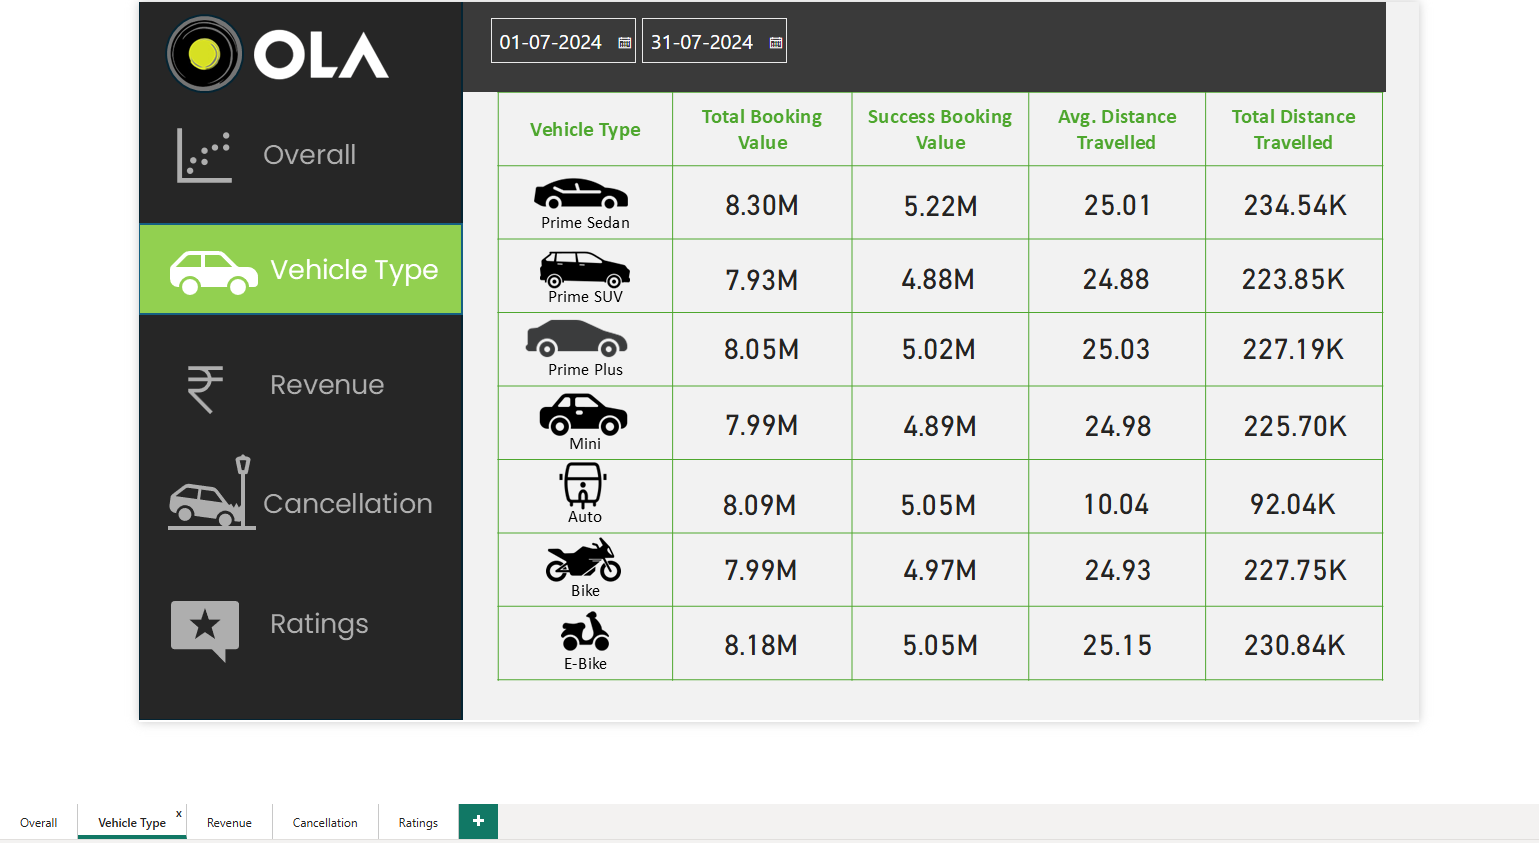

The page's visual inventory and layout, read from the dashboard file:
{"tool":"powerbi","page":{"name":"Vehicle Type","canvas":[1280,720],"ordinal":1},"visuals":[{"type":"actionButton","box":[0,312.5,324.1,119.6],"z":0},{"type":"actionButton","box":[0,116.2,324.1,104.5],"z":1000},{"type":"actionButton","box":[0,432.1,324.1,131.3],"z":2000},{"type":"actionButton","box":[0,563.3,324.1,131.3],"z":3000},{"type":"card","fields":{"Values":["Sum(Bookings-100000-Rows.Booking_Value)"]},"box":[718.8,171.6,164.2,59.4],"z":4000},{"type":"card","fields":{"Values":["Sum(Bookings-100000-Rows.Booking_Value)"]},"box":[717,244.9,164.2,60.3],"z":5000},{"type":"card","fields":{"Values":["Sum(Bookings-100000-Rows.Booking_Value)"]},"box":[717,314.4,164.2,60.3],"z":6000},{"type":"card","fields":{"Values":["Sum(Bookings-100000-Rows.Booking_Value)"]},"box":[718.8,391.4,164.2,60.3],"z":7000},{"type":"card","fields":{"Values":["Sum(Bookings-100000-Rows.Booking_Value)"]},"box":[716.1,470.3,165.1,60.3],"z":8000},{"type":"card","fields":{"Values":["Sum(Bookings-100000-Rows.Booking_Value)"]},"box":[718.8,537,164.2,58.4],"z":9000},{"type":"card","fields":{"Values":["Sum(Bookings-100000-Rows.Booking_Value)"]},"box":[718.8,611.2,163.2,59.4],"z":10000},{"type":"card","fields":{"Values":["Sum(Bookings-100000-Rows.Booking_Value)"]},"box":[541,171.1,163.9,59.9],"z":11000},{"type":"card","fields":{"Values":["Sum(Bookings-100000-Rows.Booking_Value)"]},"box":[540.5,245.3,164.7,60.4],"z":12000},{"type":"card","fields":{"Values":["Sum(Bookings-100000-Rows.Booking_Value)"]},"box":[540.5,314.4,164.7,60.4],"z":13000},{"type":"card","fields":{"Values":["Sum(Bookings-100000-Rows.Booking_Value)"]},"box":[540.5,391.1,164.7,60.4],"z":14000},{"type":"card","fields":{"Values":["Sum(Bookings-100000-Rows.Booking_Value)"]},"box":[538,470.3,164.7,60.4],"z":15000},{"type":"card","fields":{"Values":["Sum(Bookings-100000-Rows.Booking_Value)"]},"box":[539.2,535.7,164.7,59.1],"z":16000},{"type":"card","fields":{"Values":["Sum(Bookings-100000-Rows.Booking_Value)"]},"box":[540.5,611.1,163.5,59.1],"z":17000},{"type":"card","fields":{"Values":["Avg(Bookings-100000-Rows.Ride_Distance)"]},"box":[896.7,171.4,164.2,59.4],"z":18000},{"type":"card","fields":{"Values":["Avg(Bookings-100000-Rows.Ride_Distance)"]},"box":[894.9,244.7,164.2,60.3],"z":19000},{"type":"card","fields":{"Values":["Avg(Bookings-100000-Rows.Ride_Distance)"]},"box":[894.9,314.2,164.2,60.3],"z":20000},{"type":"card","fields":{"Values":["Avg(Bookings-100000-Rows.Ride_Distance)"]},"box":[896.7,391.2,164.2,60.3],"z":21000},{"type":"card","fields":{"Values":["Avg(Bookings-100000-Rows.Ride_Distance)"]},"box":[893.9,470.1,165.1,60.3],"z":22000},{"type":"card","fields":{"Values":["Avg(Bookings-100000-Rows.Ride_Distance)"]},"box":[896.7,536.8,164.2,58.4],"z":23000},{"type":"card","fields":{"Values":["Avg(Bookings-100000-Rows.Ride_Distance)"]},"box":[896.7,611,163.2,59.4],"z":24000},{"type":"card","fields":{"Values":["Sum(Bookings-100000-Rows.Ride_Distance)"]},"box":[1073.9,171.4,164.2,59.4],"z":25000},{"type":"card","fields":{"Values":["Sum(Bookings-100000-Rows.Ride_Distance)"]},"box":[1072,244.7,164.2,60.3],"z":26000},{"type":"card","fields":{"Values":["Sum(Bookings-100000-Rows.Ride_Distance)"]},"box":[1072,314.2,164.2,60.3],"z":27000},{"type":"card","fields":{"Values":["Sum(Bookings-100000-Rows.Ride_Distance)"]},"box":[1073.9,391.2,164.2,60.3],"z":28000},{"type":"card","fields":{"Values":["Sum(Bookings-100000-Rows.Ride_Distance)"]},"box":[1071.1,470.1,165.1,60.3],"z":29000},{"type":"card","fields":{"Values":["Sum(Bookings-100000-Rows.Ride_Distance)"]},"box":[1073.9,536.8,164.2,58.4],"z":30000},{"type":"card","fields":{"Values":["Sum(Bookings-100000-Rows.Ride_Distance)"]},"box":[1073.9,611,163.2,59.4],"z":31000},{"type":"slicer","title":"Date","fields":{"Values":["Bookings-100000-Rows.Date"]},"box":[323.8,0,922.8,89.6],"z":32000}]}

Visuals, with their boxes on the page's 1280x720 design canvas (x1, y1, x2, y2). These are canvas units, not pixel positions in the 1539x843 screenshot, which may show the page scaled, cropped or inside an application window:
actionButton: [0,312,324,432]
actionButton: [0,116,324,221]
actionButton: [0,432,324,563]
actionButton: [0,563,324,695]
card - Sum(Bookings-100000-Rows.Booking_Value): [719,172,883,231]
card - Sum(Bookings-100000-Rows.Booking_Value): [717,245,881,305]
card - Sum(Bookings-100000-Rows.Booking_Value): [717,314,881,375]
card - Sum(Bookings-100000-Rows.Booking_Value): [719,391,883,452]
card - Sum(Bookings-100000-Rows.Booking_Value): [716,470,881,531]
card - Sum(Bookings-100000-Rows.Booking_Value): [719,537,883,595]
card - Sum(Bookings-100000-Rows.Booking_Value): [719,611,882,671]
card - Sum(Bookings-100000-Rows.Booking_Value): [541,171,705,231]
card - Sum(Bookings-100000-Rows.Booking_Value): [540,245,705,306]
card - Sum(Bookings-100000-Rows.Booking_Value): [540,314,705,375]
card - Sum(Bookings-100000-Rows.Booking_Value): [540,391,705,452]
card - Sum(Bookings-100000-Rows.Booking_Value): [538,470,703,531]
card - Sum(Bookings-100000-Rows.Booking_Value): [539,536,704,595]
card - Sum(Bookings-100000-Rows.Booking_Value): [540,611,704,670]
card - Avg(Bookings-100000-Rows.Ride_Distance): [897,171,1061,231]
card - Avg(Bookings-100000-Rows.Ride_Distance): [895,245,1059,305]
card - Avg(Bookings-100000-Rows.Ride_Distance): [895,314,1059,374]
card - Avg(Bookings-100000-Rows.Ride_Distance): [897,391,1061,452]
card - Avg(Bookings-100000-Rows.Ride_Distance): [894,470,1059,530]
card - Avg(Bookings-100000-Rows.Ride_Distance): [897,537,1061,595]
card - Avg(Bookings-100000-Rows.Ride_Distance): [897,611,1060,670]
card - Sum(Bookings-100000-Rows.Ride_Distance): [1074,171,1238,231]
card - Sum(Bookings-100000-Rows.Ride_Distance): [1072,245,1236,305]
card - Sum(Bookings-100000-Rows.Ride_Distance): [1072,314,1236,374]
card - Sum(Bookings-100000-Rows.Ride_Distance): [1074,391,1238,452]
card - Sum(Bookings-100000-Rows.Ride_Distance): [1071,470,1236,530]
card - Sum(Bookings-100000-Rows.Ride_Distance): [1074,537,1238,595]
card - Sum(Bookings-100000-Rows.Ride_Distance): [1074,611,1237,670]
"Date" slicer: [324,0,1247,90]
